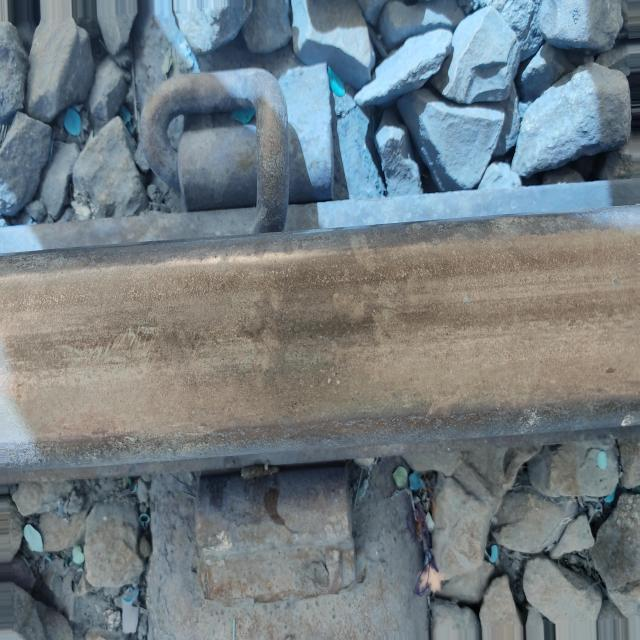Good Fasteners: (121, 35, 379, 265)
Missing Fastener: (165, 447, 379, 624)
